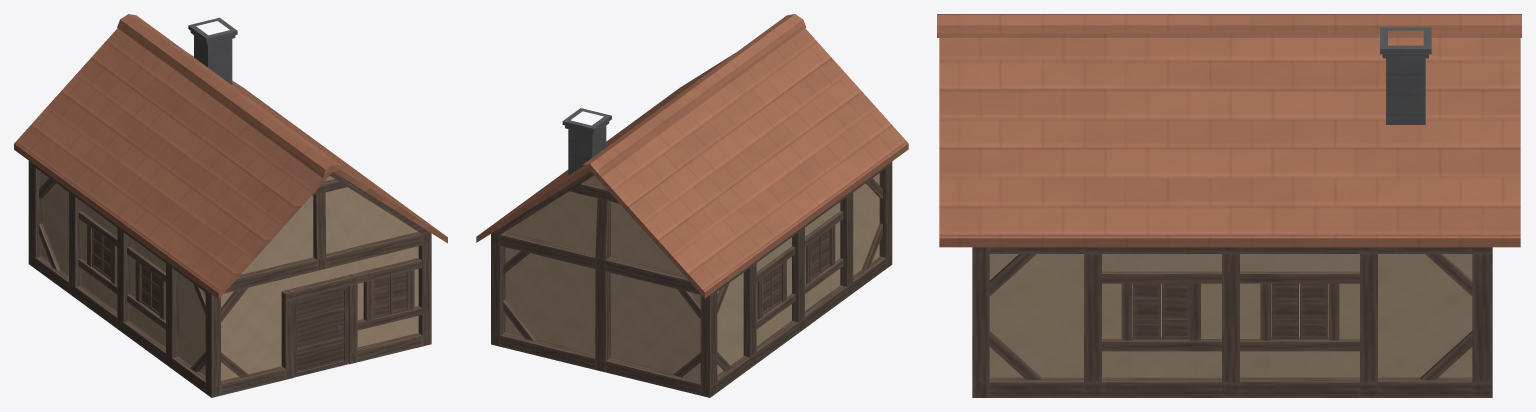
Rendered from timber-house.glb.
The picture shows the model from 3 angles, left to right: view 1: azimuth 30°, elevation 25°; view 2: azimuth 150°, elevation 25°; view 3: azimuth 270°, elevation 25°; orthographic projection. The views are drawn at different scales.
Parts seen in each view (by area): view 1: Cottage; view 2: Cottage; view 3: Cottage.
Boxes of the visible parts, x1=… form: Cottage: x1=14, y1=14, x2=447, y2=397; Cottage: x1=476, y1=14, x2=908, y2=397; Cottage: x1=937, y1=14, x2=1521, y2=397.
Size of the model in its own units: 0.5852 by 0.539 by 0.9091.
1 material, 1 textured.
